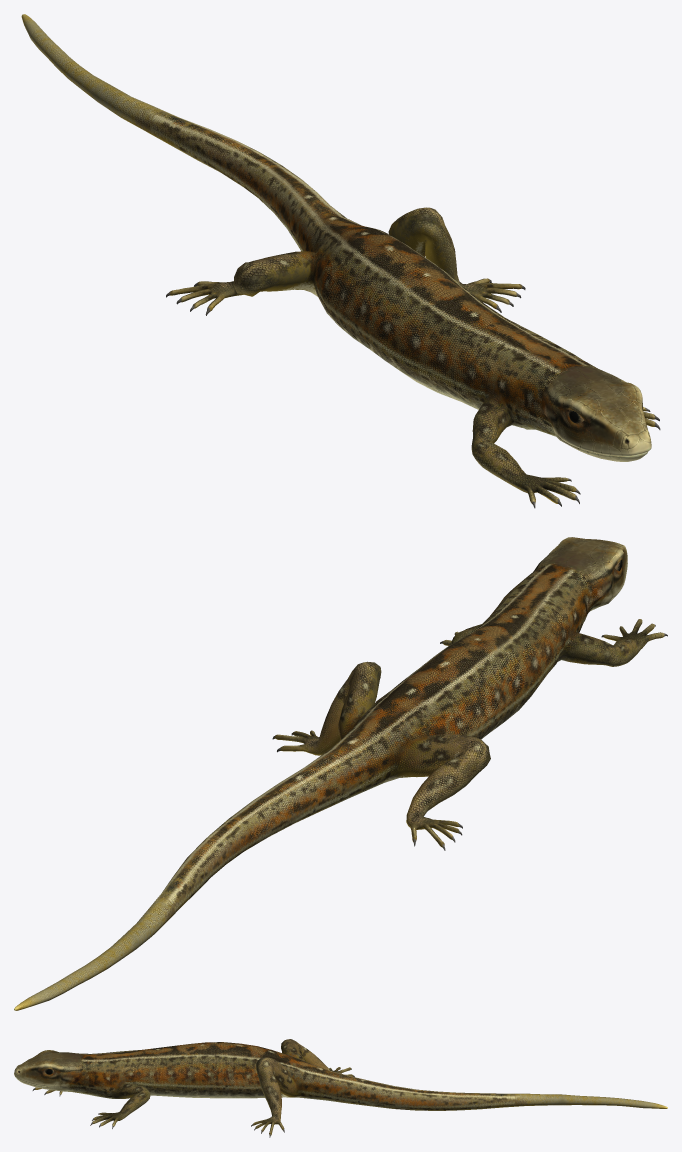
The model's file is Running73.obj.
3 views of the same model, one above another, from view 1: azimuth 30°, elevation 25°; view 2: azimuth 150°, elevation 25°; view 3: azimuth 270°, elevation 25° (orthographic). The views are drawn at different scales.
Parts seen in each view (by area): view 1: Lizard; view 2: Lizard; view 3: Lizard.
Part boxes in pixels (x1=…): Lizard: x1=21, y1=14, x2=660, y2=508; Lizard: x1=14, y1=537, x2=667, y2=1010; Lizard: x1=14, y1=1039, x2=667, y2=1137.
Bounding box in the file's own units: 25.67 × 9.64 × 104.
